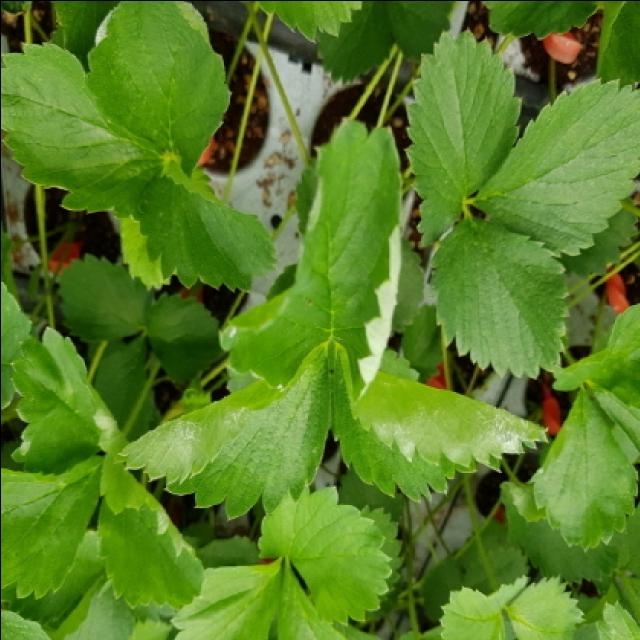Powdery Mildew Leaf: (217, 117, 402, 404), (116, 343, 330, 521), (329, 343, 550, 504), (82, 2, 232, 178), (5, 323, 109, 477)
